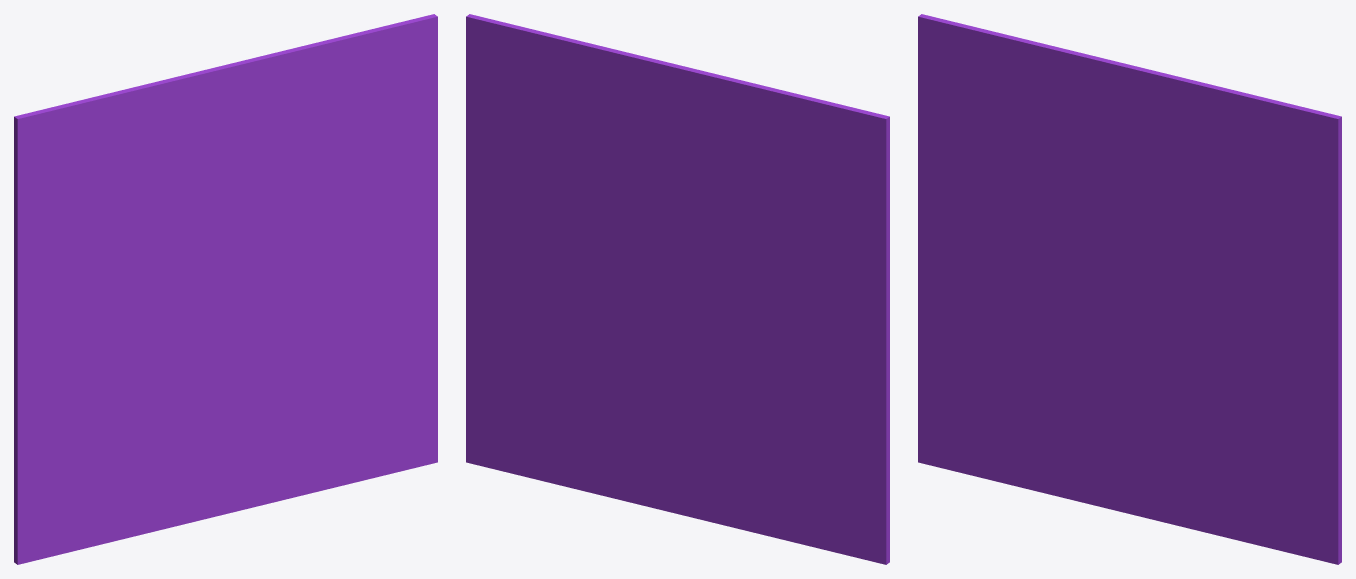
The model's file is Window_39_chunks.fbx.
The picture shows the model from 3 angles, left to right: view 1: azimuth 30°, elevation 25°; view 2: azimuth 150°, elevation 25°; view 3: azimuth 330°, elevation 25°; orthographic projection.
Visible parts, largest first — view 1: Window_39_0, Window_39_1, Window_39_2, Window_39_3; view 2: Window_39_1, Window_39_0, Window_39_3, Window_39_2; view 3: Window_39_1, Window_39_0, Window_39_2, Window_39_3.
Part boxes in pixels (left/top/right/bottom): Window_39_0: left=14, top=289, right=281, bottom=564; Window_39_1: left=230, top=137, right=437, bottom=500; Window_39_2: left=148, top=14, right=437, bottom=291; Window_39_3: left=14, top=82, right=221, bottom=358; Window_39_1: left=466, top=130, right=677, bottom=501; Window_39_0: left=626, top=295, right=889, bottom=564; Window_39_3: left=673, top=84, right=889, bottom=361; Window_39_2: left=466, top=14, right=758, bottom=284; Window_39_1: left=1131, top=230, right=1341, bottom=564; Window_39_0: left=918, top=252, right=1182, bottom=526; Window_39_2: left=1048, top=48, right=1341, bottom=293; Window_39_3: left=918, top=14, right=1121, bottom=286.
Size of the model in its own units: 1826 by 1851 by 27.2.
